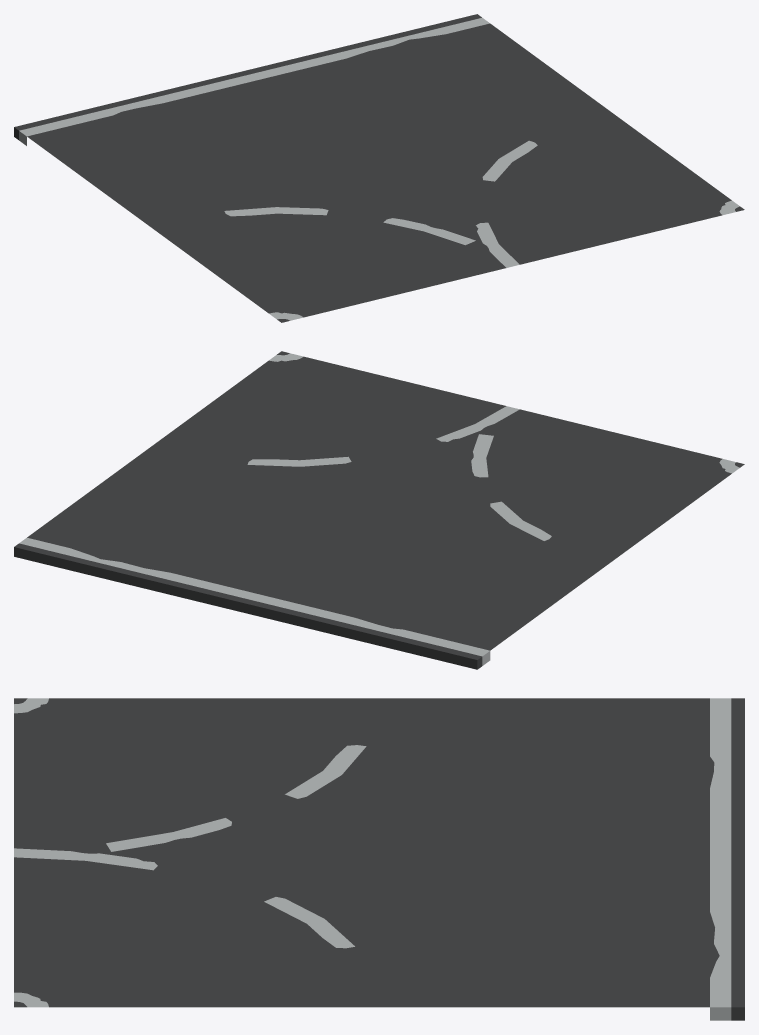
The model's file is 20C_BG_RoadT_10M.fbx.
The picture shows the model from 3 angles, top to bottom: view 1: azimuth 30°, elevation 25°; view 2: azimuth 150°, elevation 25°; view 3: azimuth 270°, elevation 25°; orthographic projection. The views are drawn at different scales.
Parts seen in each view (by area): view 1: 20C_BG_RoadT_10M; view 2: 20C_BG_RoadT_10M; view 3: 20C_BG_RoadT_10M.
Part boxes in pixels (x1=…): 20C_BG_RoadT_10M: x1=14, y1=14, x2=744, y2=322; 20C_BG_RoadT_10M: x1=14, y1=351, x2=744, y2=669; 20C_BG_RoadT_10M: x1=14, y1=698, x2=744, y2=1020.
Size of the model in its own units: 100 by 2 by 100.
